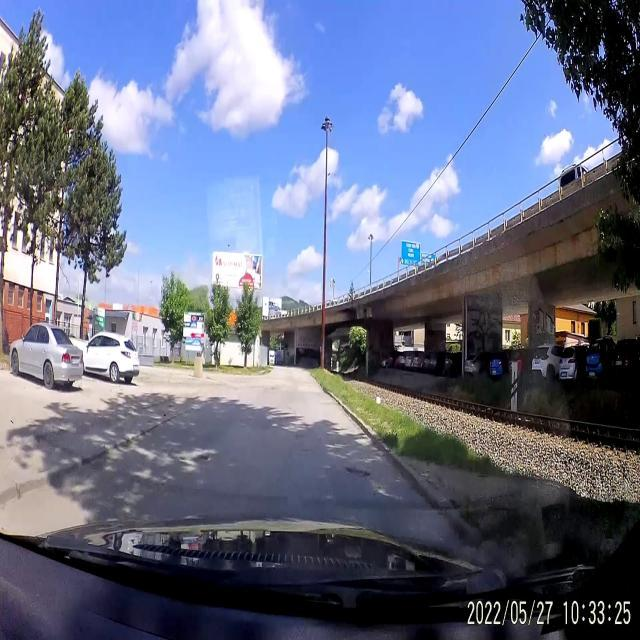Pothole: (346, 462, 372, 482), (194, 450, 213, 465)
